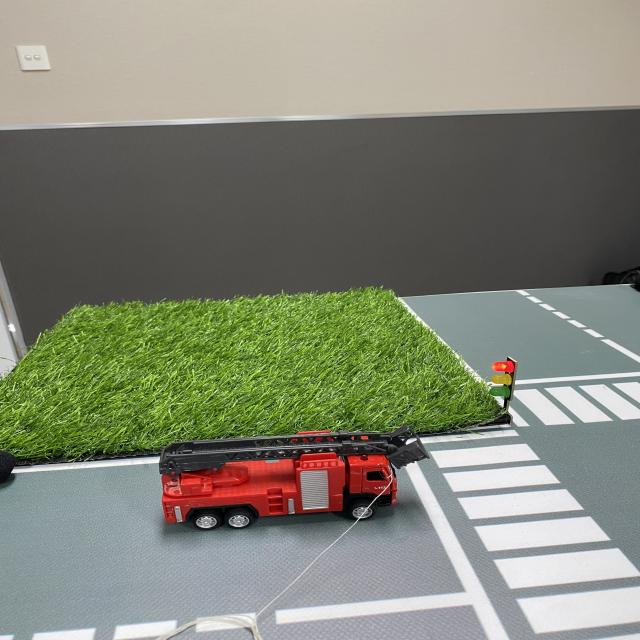Fire Truck: (154, 422, 434, 533)
